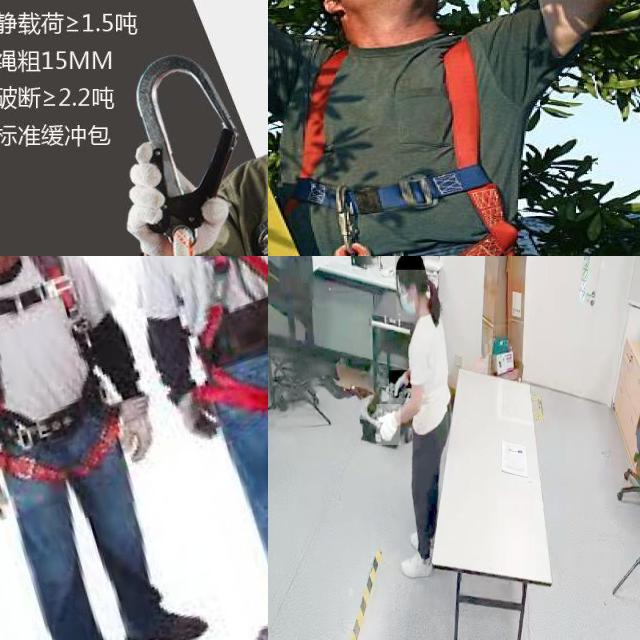Harness: (283, 39, 518, 256)
face_mask: (397, 290, 418, 322)
hand_glove: (377, 404, 401, 446), (389, 370, 411, 398)
head_nohelmet: (394, 256, 425, 270)
person: (366, 256, 466, 614)
shoes: (399, 549, 433, 579)
